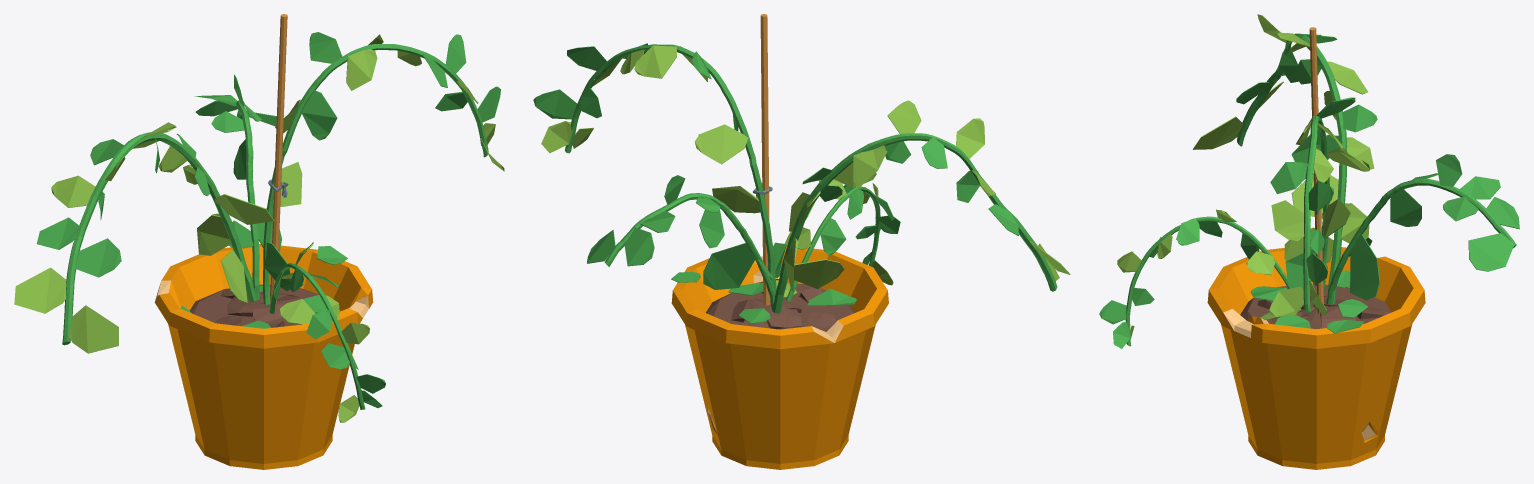
The model's file is Potted Plant.glb.
3 views of the same model, side by side, from view 1: azimuth 30°, elevation 25°; view 2: azimuth 150°, elevation 25°; view 3: azimuth 270°, elevation 25° (orthographic).
Parts seen in each view (by area): view 1: group2079890391, group1853284154, group358374076, group1273900034, group1611097932, group1044634114, group1472007292, group1826907914, group1135724752, group1361910999, group1236955045, group637023894 (+7 smaller); view 2: group2079890391, group1853284154, group358374076, group1273900034, group1653198649, group1611097932, group1826907914, group1805763839, group8161187, group929994347, group663983943, group291278784 (+5 smaller); view 3: group2079890391, group1853284154, group358374076, group1273900034, group1826907914, group1653198649, group2029792314, group1611097932, group548037134, group1472007292, group1302127778, group8161187 (+10 smaller).
Part boxes in pixels (left/top/right/bottom): group2079890391: left=154, top=244, right=373, bottom=469; group1853284154: left=263, top=32, right=504, bottom=304; group358374076: left=269, top=242, right=385, bottom=422; group1273900034: left=62, top=132, right=255, bottom=345; group1611097932: left=270, top=14, right=287, bottom=302; group1044634114: left=14, top=267, right=66, bottom=313; group1472007292: left=68, top=305, right=118, bottom=353; group1826907914: left=236, top=100, right=259, bottom=300; group1135724752: left=75, top=238, right=121, bottom=277; group1361910999: left=197, top=213, right=231, bottom=255; group1236955045: left=51, top=175, right=95, bottom=207; group637023894: left=215, top=194, right=274, bottom=224; group2079890391: left=671, top=246, right=888, bottom=469; group1853284154: left=533, top=43, right=776, bottom=292; group358374076: left=784, top=179, right=900, bottom=301; group1273900034: left=772, top=133, right=1057, bottom=313; group1653198649: left=703, top=243, right=754, bottom=289; group1611097932: left=760, top=14, right=770, bottom=305; group1826907914: left=604, top=193, right=775, bottom=310; group1805763839: left=794, top=259, right=844, bottom=289; group8161187: left=712, top=186, right=760, bottom=213; group929994347: left=624, top=227, right=654, bottom=266; group663983943: left=853, top=145, right=887, bottom=188; group291278784: left=956, top=118, right=984, bottom=158; group2079890391: left=1207, top=247, right=1425, bottom=469; group1853284154: left=1269, top=97, right=1369, bottom=316; group358374076: left=1099, top=209, right=1289, bottom=348; group1273900034: left=1237, top=33, right=1346, bottom=303; group1826907914: left=1326, top=179, right=1516, bottom=304; group1653198649: left=1350, top=234, right=1379, bottom=300; group2029792314: left=1468, top=233, right=1514, bottom=271; group1611097932: left=1309, top=27, right=1323, bottom=313; group548037134: left=1390, top=189, right=1421, bottom=226; group1472007292: left=1193, top=116, right=1243, bottom=149; group1302127778: left=1342, top=104, right=1377, bottom=132; group8161187: left=1322, top=199, right=1350, bottom=238.
Size of the model in its own units: 3.36 by 2.65 by 2.39.
